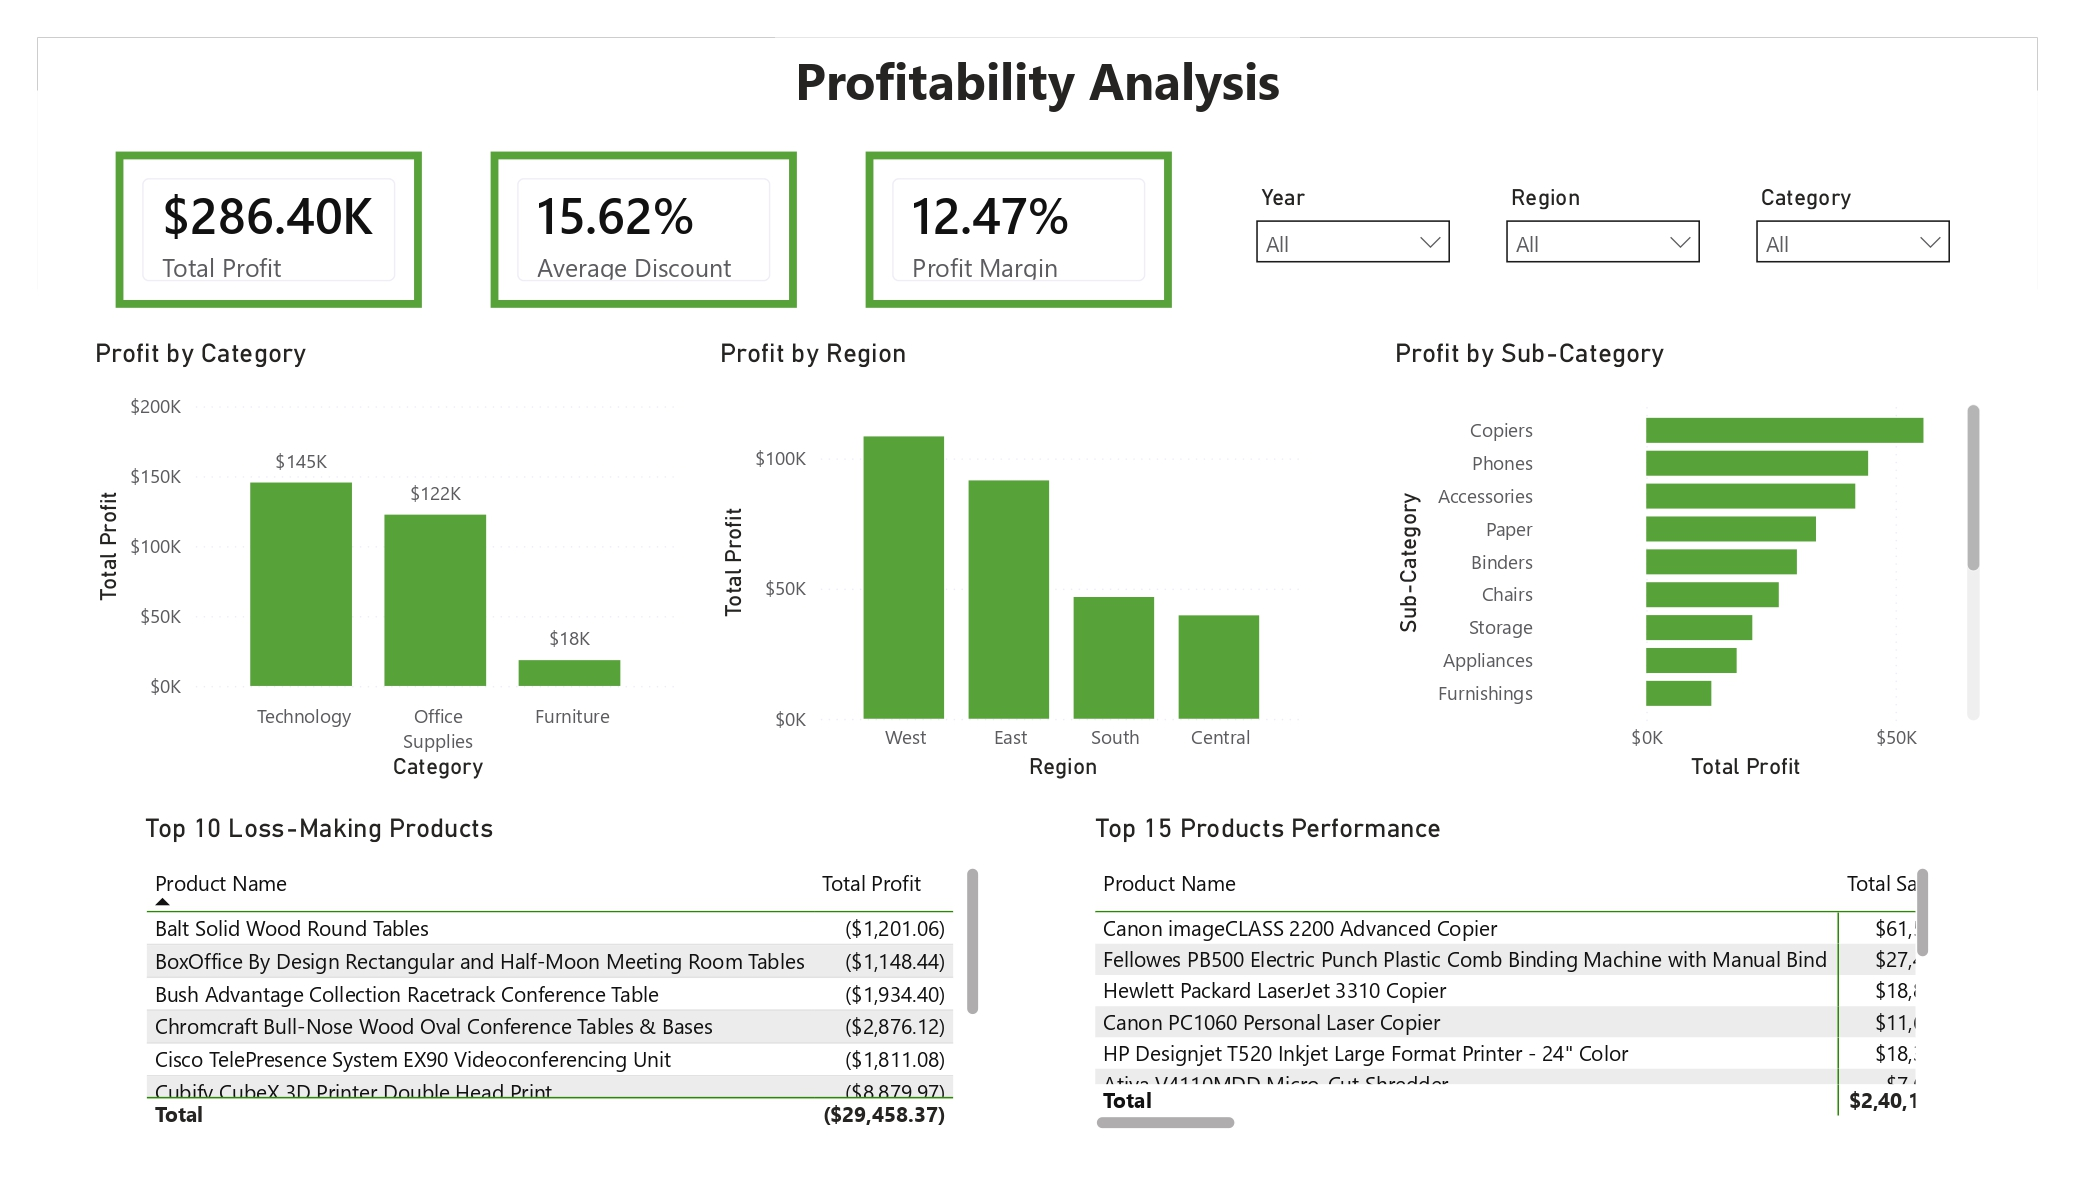

Layout of this report page (visuals, bound fields, positions):
{"tool":"powerbi","page":{"name":"Profitability Analysis","canvas":[1280,720],"ordinal":3},"visuals":[{"type":"cardVisual","fields":{"Data":["orders.Total Profit"]},"box":[50.5,72.5,196,100],"z":0},{"type":"cardVisual","fields":{"Data":["orders.Profit Margin"]},"box":[530.5,72.5,196,100],"z":1000},{"type":"cardVisual","fields":{"Data":["orders.Average Discount"]},"box":[290.5,72.5,196,100],"z":2000},{"type":"clusteredColumnChart","title":" Profit by Category","fields":{"Category":["orders.Category"],"Y":["orders.Total Profit"]},"box":[32,192,384,288],"z":3000},{"type":"clusteredBarChart","title":"Profit by Sub-Category","fields":{"Category":["orders.Sub-Category"],"Y":["orders.Total Profit"]},"box":[864,192,384,288],"z":4000},{"type":"pivotTable","title":"Top 15 Products Performance","fields":{"Values":["orders.Total Sales","orders.Total Profit","orders.Average Discount"],"Rows":["orders.Product Name"]},"box":[672,496,544,208],"z":5000},{"type":"clusteredColumnChart","title":"Profit by Region","fields":{"Category":["orders.Region"],"Y":["orders.Total Profit"]},"box":[432,192,384,288],"z":6000},{"type":"tableEx","title":"Top 10 Loss-Making Products","fields":{"Values":["orders.Product Name","orders.Total Profit"]},"box":[64,496,544,208],"z":7000},{"type":"slicer","fields":{"Values":["Date.Date Hierarchy.Year"]},"box":[770.5,88.5,144,64],"z":8000},{"type":"slicer","fields":{"Values":["orders.Region"]},"box":[930.5,88.5,144,64],"z":9000},{"type":"slicer","fields":{"Values":["orders.Category"]},"box":[1090.5,88.5,144,64],"z":10000},{"type":"textbox","box":[472,0,336,64],"z":11000}]}

Visuals, with their boxes on the page's 1280x720 design canvas (x1, y1, x2, y2). These are canvas units, not pixel positions in the 2075x1200 screenshot, which may show the page scaled, cropped or inside an application window:
cardVisual - orders.Total Profit: [50,72,246,172]
cardVisual - orders.Profit Margin: [530,72,726,172]
cardVisual - orders.Average Discount: [290,72,486,172]
" Profit by Category" clusteredColumnChart: [32,192,416,480]
"Profit by Sub-Category" clusteredBarChart: [864,192,1248,480]
"Top 15 Products Performance" pivotTable: [672,496,1216,704]
"Profit by Region" clusteredColumnChart: [432,192,816,480]
"Top 10 Loss-Making Products" tableEx: [64,496,608,704]
slicer - Date.Date Hierarchy.Year: [770,88,914,152]
slicer - orders.Region: [930,88,1074,152]
slicer - orders.Category: [1090,88,1234,152]
textbox: [472,0,808,64]
